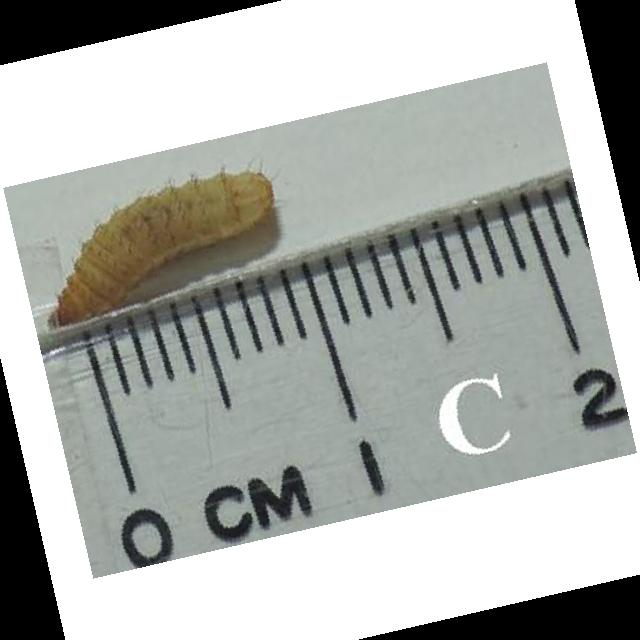Maggot: (52, 165, 278, 333)
